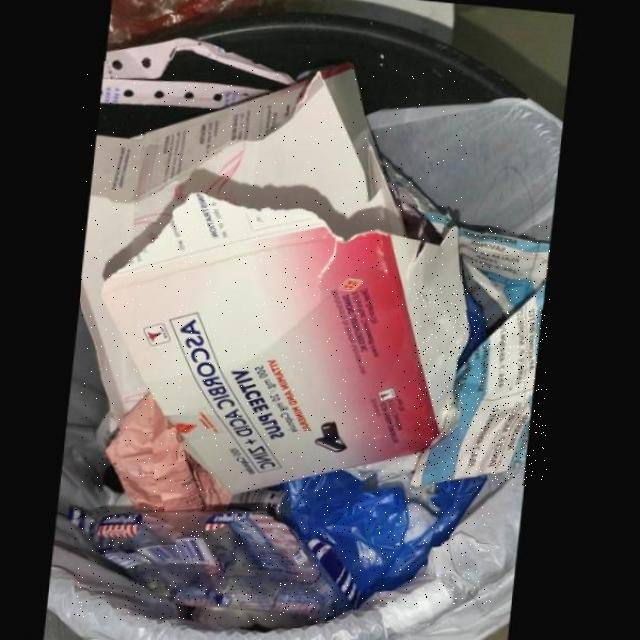paper: (81, 61, 472, 493), (415, 284, 547, 486), (462, 225, 552, 310), (414, 199, 450, 230)
plastic: (280, 468, 491, 606)
wrapper: (72, 507, 353, 622)
